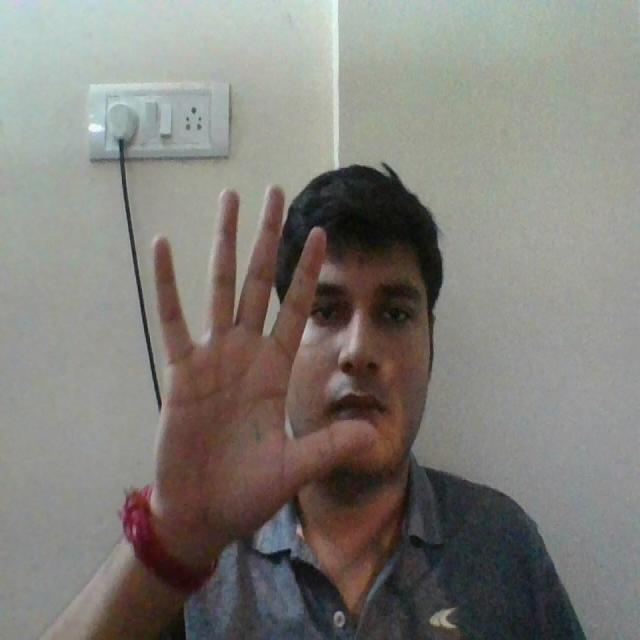Hello: (120, 149, 382, 571)
